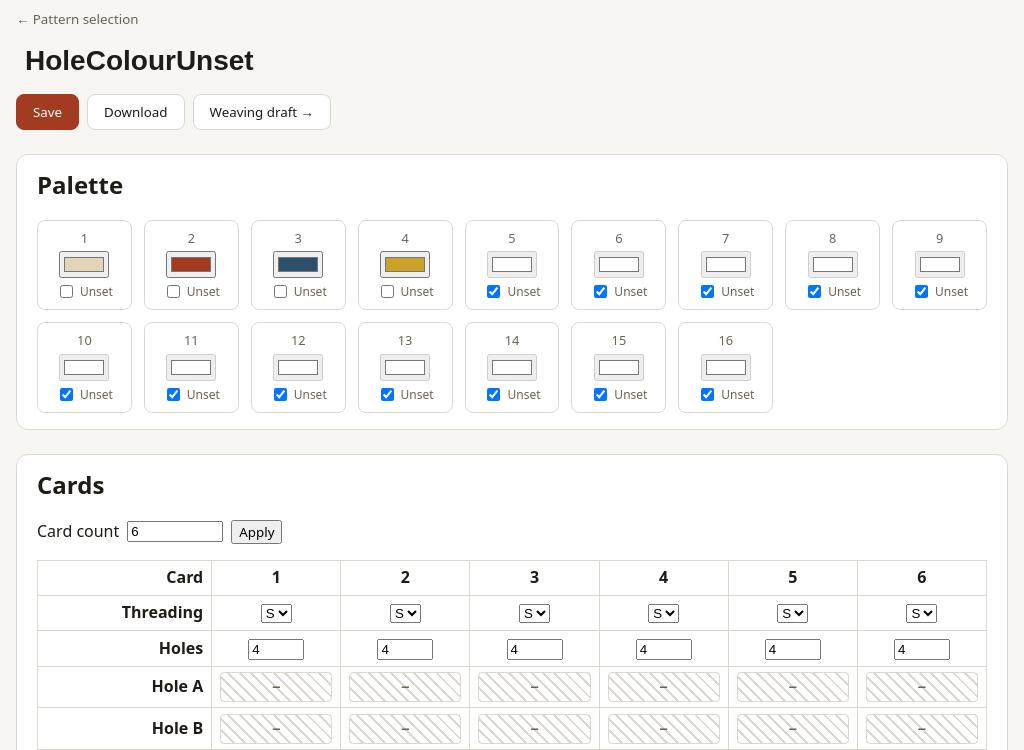
Test: EditPatternPage › choosing Unset clears a previously assigned hole colour
Expected: the field showing "HoleColourUnset" is shown, [16,40,1008,82]
Click the button named "Card 1 hole A colour" at (276, 687), box [220,672,332,702]
(page scrolled)
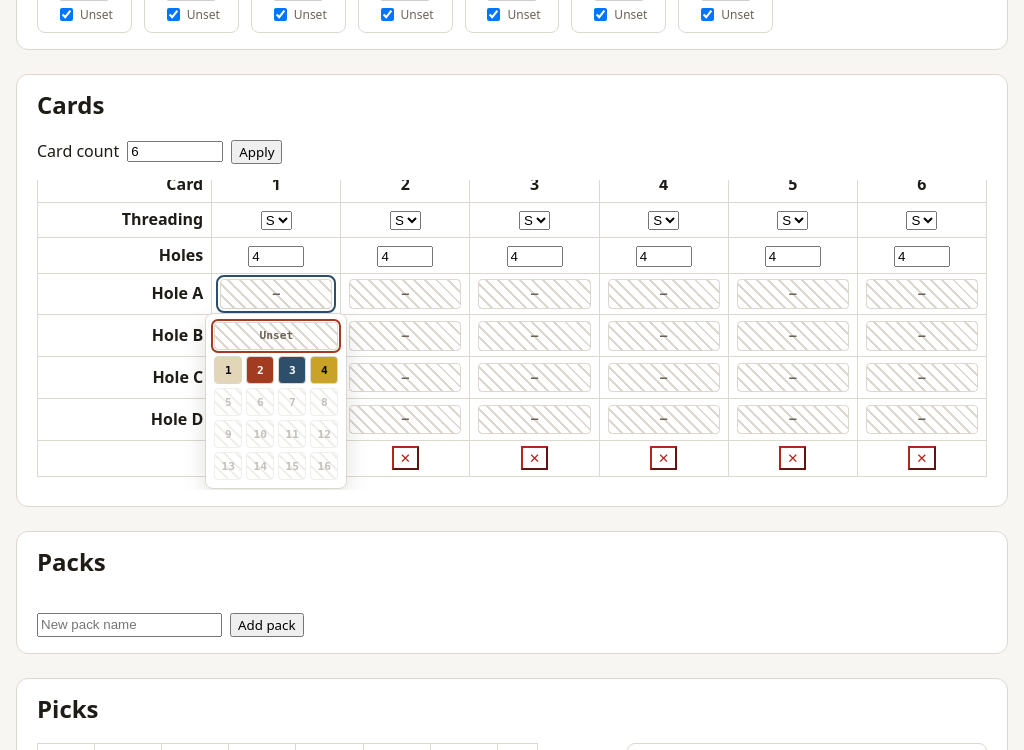
Click the option named "Select palette colour 2" at (260, 370), box [246,356,274,384]
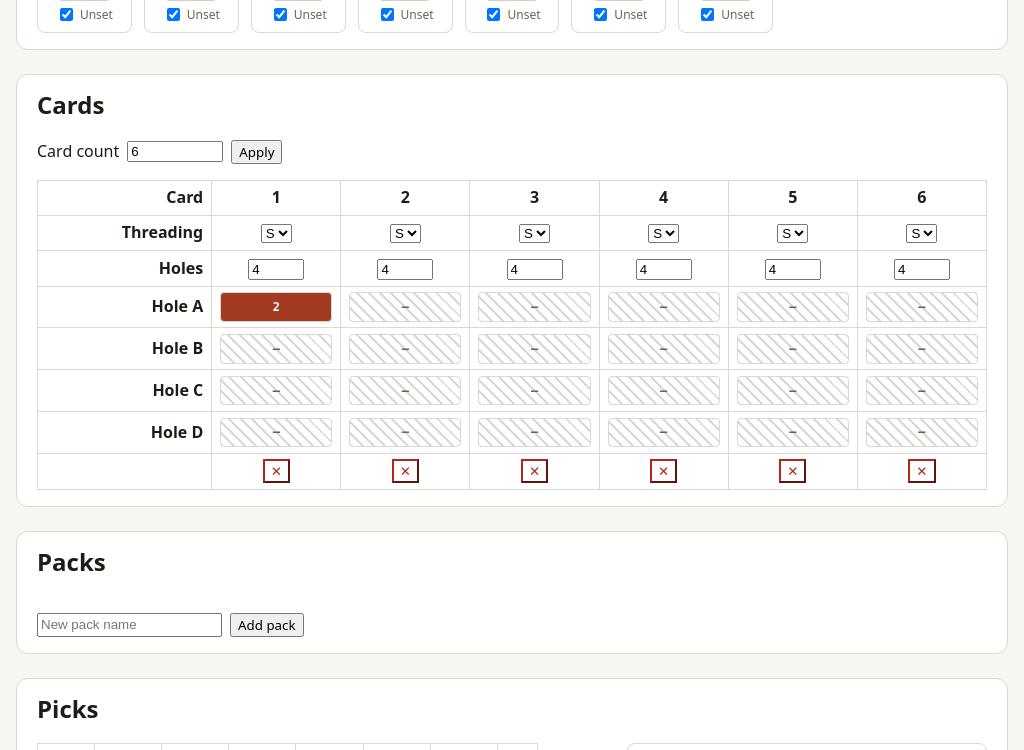
Result: the button named "Card 1 hole A colour" reads "2"
Click the button named "Card 1 hole A colour" at (276, 307), box [220,292,332,322]
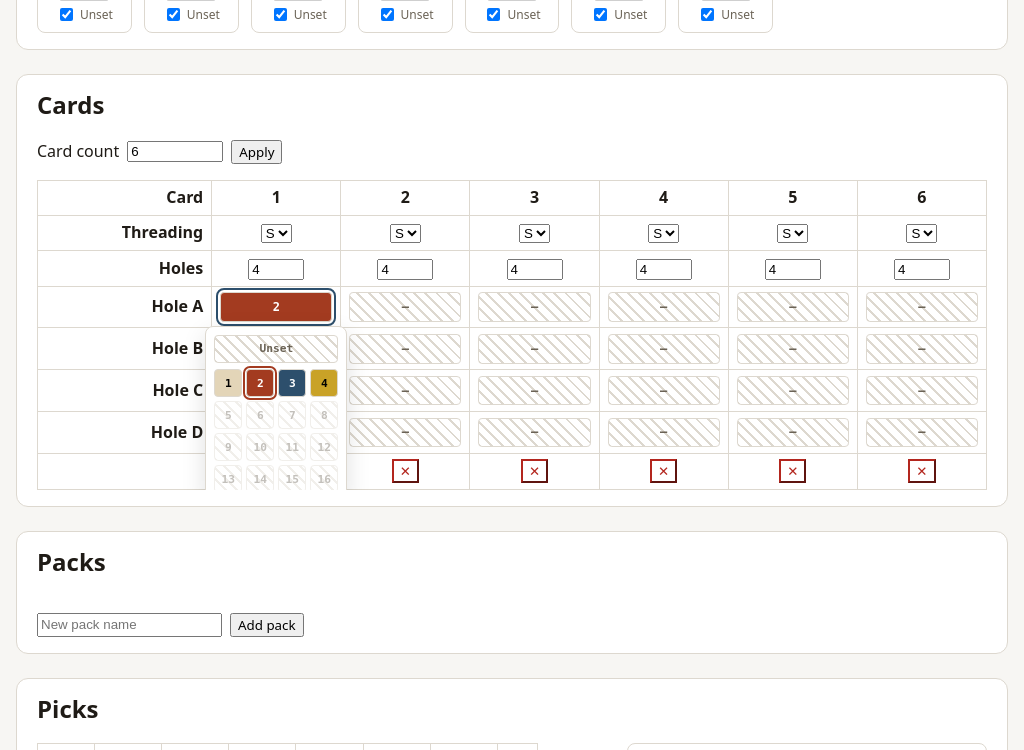
Click the option "Unset" at (276, 349), box [214,335,338,363]
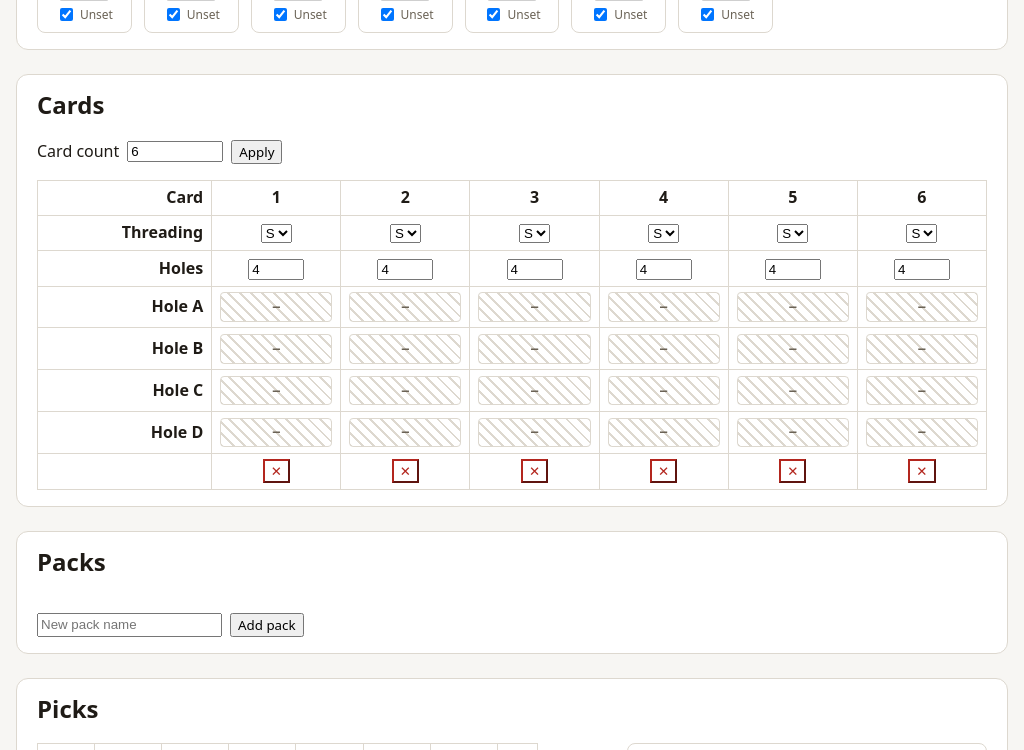
Result: the button named "Card 1 hole A colour" reads "–" at [220,292,332,322]
